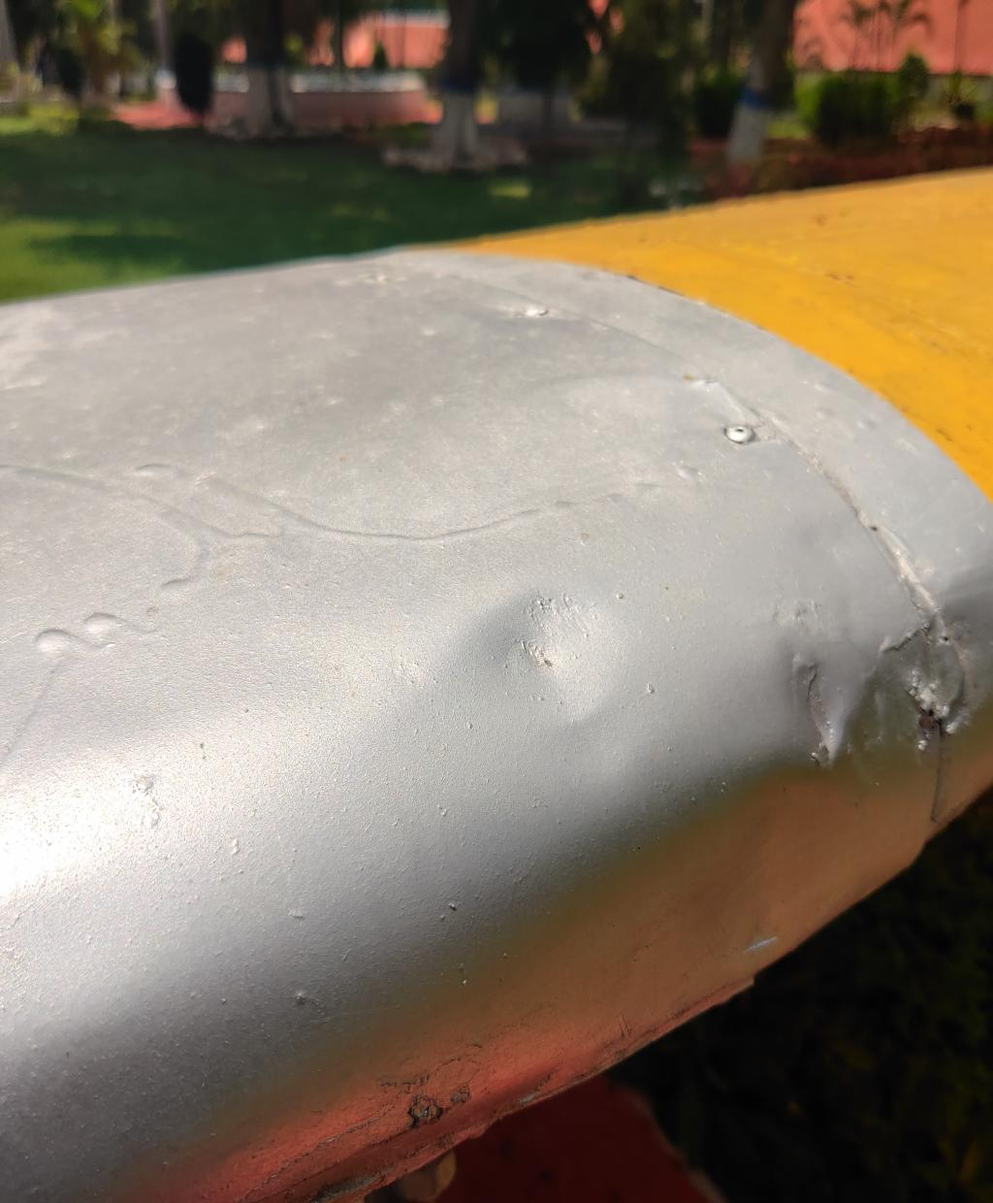dent: (440, 533, 652, 782), (748, 606, 904, 806)
